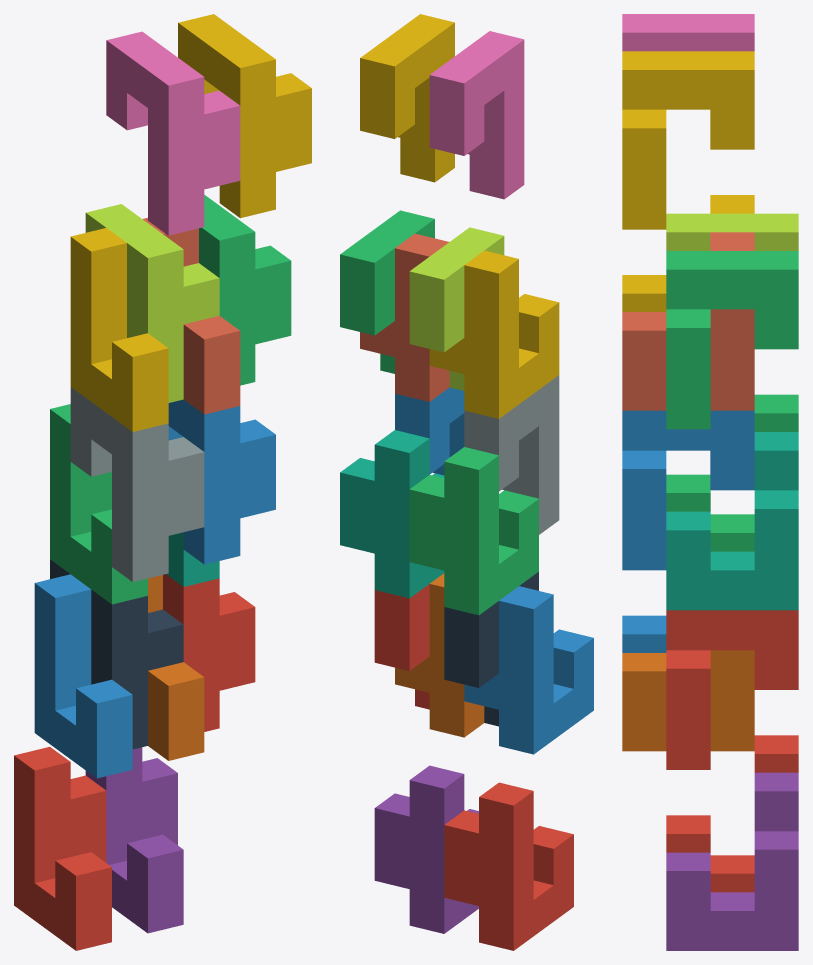
Rendered from tiling.obj.
3 views of the same model, side by side, from view 1: azimuth 30°, elevation 25°; view 2: azimuth 150°, elevation 25°; view 3: azimuth 270°, elevation 25° (orthographic). The views are drawn at different scales.
Parts seen in each view (by area): view 1: copy_2_domain_4, copy_1_domain_1, copy_2_domain_2, copy_2_domain_8, copy_1_domain_2, copy_1_domain_4, copy_1_domain_5, copy_2_domain_6, copy_2_domain_3, copy_2_domain_7, copy_1_domain_3, copy_2_domain_5 (+4 smaller); view 2: copy_1_domain_3, copy_1_domain_1, copy_1_domain_4, copy_1_domain_2, copy_2_domain_4, copy_1_domain_5, copy_1_domain_7, copy_2_domain_8, copy_2_domain_2, copy_2_domain_3, copy_2_domain_7, copy_1_domain_8 (+4 smaller); view 3: copy_1_domain_7, copy_2_domain_8, copy_1_domain_5, copy_2_domain_7, copy_2_domain_5, copy_2_domain_6, copy_1_domain_8, copy_1_domain_6, copy_1_domain_1, copy_1_domain_3, copy_2_domain_4, copy_2_domain_3 (+2 smaller).
Part boxes in pixels (left/top/right/bottom): copy_2_domain_4: left=106, top=31, right=240, bottom=235; copy_1_domain_1: left=14, top=746, right=111, bottom=950; copy_2_domain_2: left=70, top=387, right=204, bottom=581; copy_2_domain_8: left=178, top=14, right=311, bottom=218; copy_1_domain_2: left=34, top=574, right=132, bottom=778; copy_1_domain_4: left=70, top=228, right=168, bottom=431; copy_1_domain_5: left=85, top=747, right=183, bottom=933; copy_2_domain_6: left=168, top=399, right=275, bottom=564; copy_2_domain_3: left=85, top=204, right=219, bottom=402; copy_2_domain_7: left=199, top=195, right=291, bottom=385; copy_1_domain_3: left=50, top=404, right=147, bottom=604; copy_2_domain_5: left=163, top=574, right=255, bottom=731; copy_1_domain_3: left=409, top=447, right=538, bottom=615; copy_1_domain_1: left=444, top=782, right=573, bottom=950; copy_1_domain_4: left=429, top=250, right=559, bottom=418; copy_1_domain_2: left=464, top=586, right=593, bottom=754; copy_2_domain_4: left=429, top=31, right=524, bottom=199; copy_1_domain_5: left=374, top=765, right=478, bottom=933; copy_1_domain_7: left=340, top=430, right=444, bottom=598; copy_2_domain_8: left=360, top=14, right=454, bottom=182; copy_2_domain_2: left=464, top=375, right=559, bottom=534; copy_2_domain_3: left=409, top=227, right=504, bottom=390; copy_2_domain_7: left=340, top=210, right=434, bottom=373; copy_1_domain_8: left=360, top=233, right=449, bottom=401; copy_1_domain_7: left=666, top=432, right=798, bottom=610; copy_2_domain_8: left=622, top=51, right=754, bottom=229; copy_1_domain_5: left=666, top=772, right=798, bottom=950; copy_2_domain_7: left=666, top=251, right=798, bottom=429; copy_2_domain_5: left=666, top=610, right=798, bottom=769; copy_2_domain_6: left=622, top=410, right=754, bottom=570; copy_1_domain_8: left=622, top=232, right=754, bottom=410; copy_1_domain_6: left=622, top=650, right=754, bottom=751; copy_1_domain_1: left=666, top=735, right=798, bottom=892; copy_1_domain_3: left=666, top=394, right=798, bottom=551; copy_2_domain_4: left=622, top=14, right=754, bottom=51; copy_2_domain_3: left=666, top=213, right=798, bottom=250.
Bounding box in the file's own units: 6 × 23 × 4.
